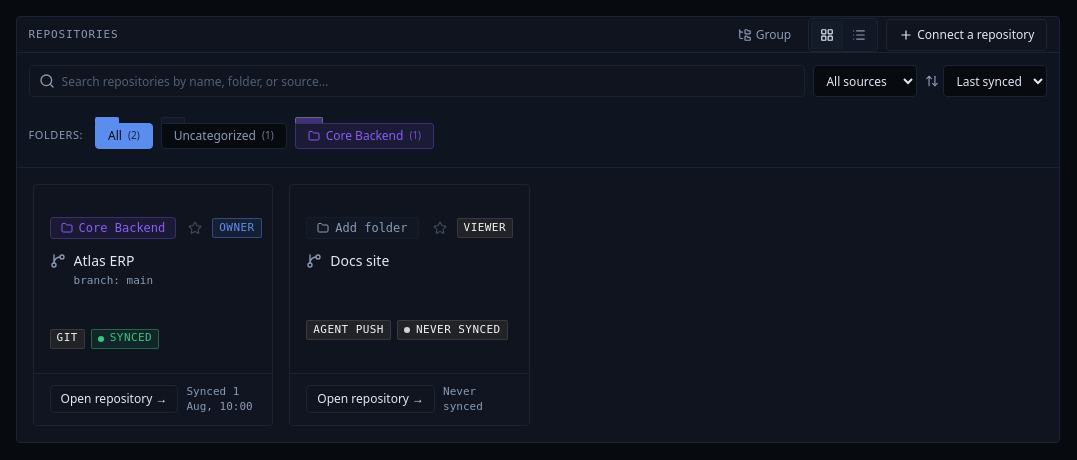
it: ReposPage › shows clear filters button when search yields no matches and resets on click
This screenshot has width=1077, height=460.
Expected: the link "Atlas ERP" is shown, [74, 251, 134, 270]
Type "NonexistentRepo" into the field labelled "Search repositories" at point(417, 81), box [29, 65, 805, 97]
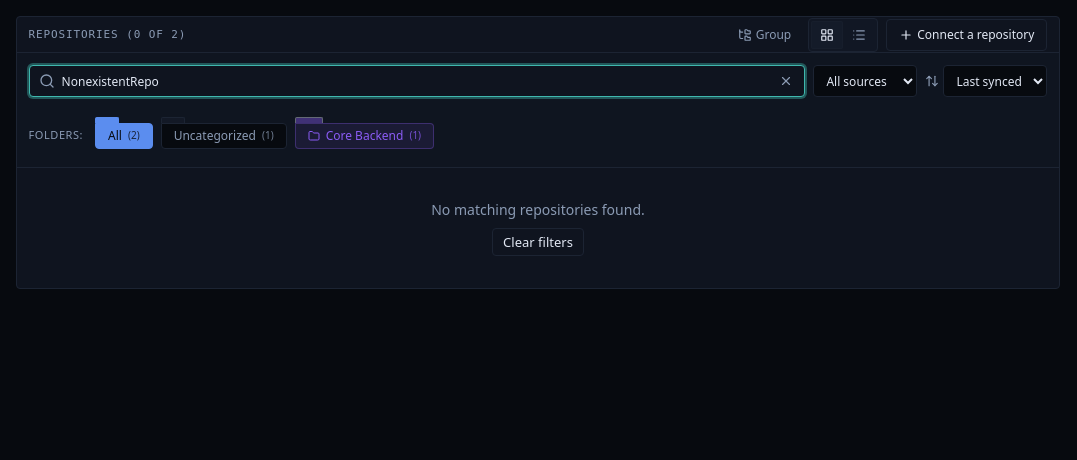
Now the text "No matching repositories found." is shown, box [431, 200, 645, 220]
Click the button "Clear filters" at point(538, 242), box [492, 228, 584, 256]
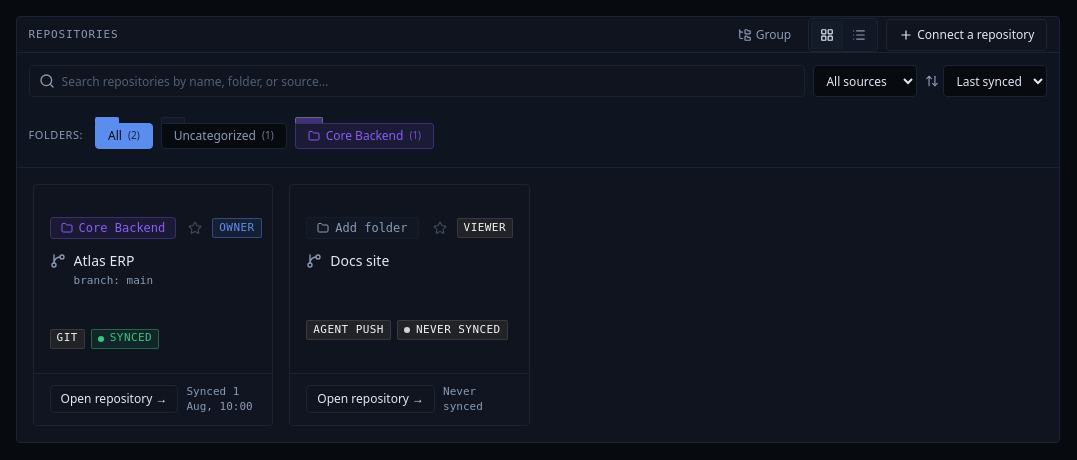
Now the link "Atlas ERP" is shown, box [74, 251, 134, 270]
Now the field labelled "Search repositories" is empty, box [29, 65, 805, 97]
